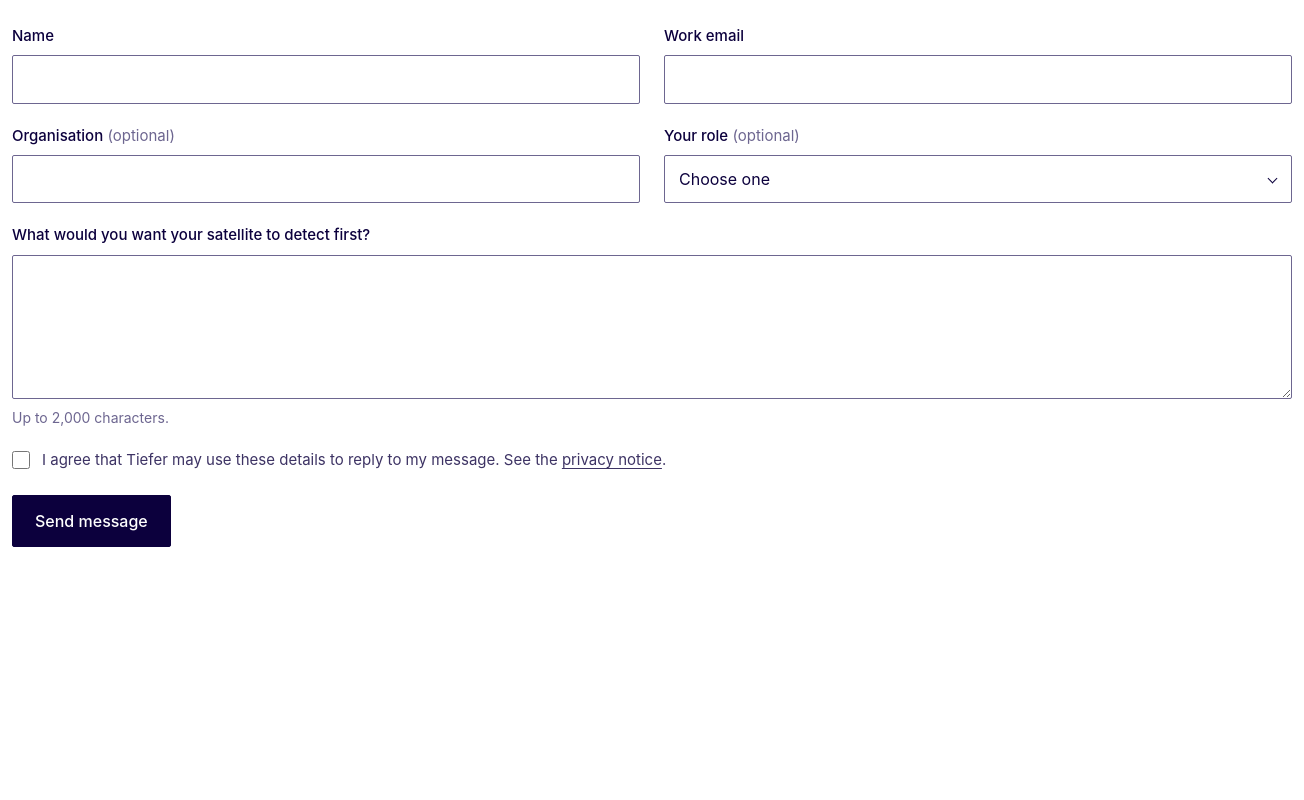
Scenario: sends the token, clears the form on success and thanks the sender
Type "Ada" into the field labelled "Name" at (326, 80), box [12, 55, 640, 104]
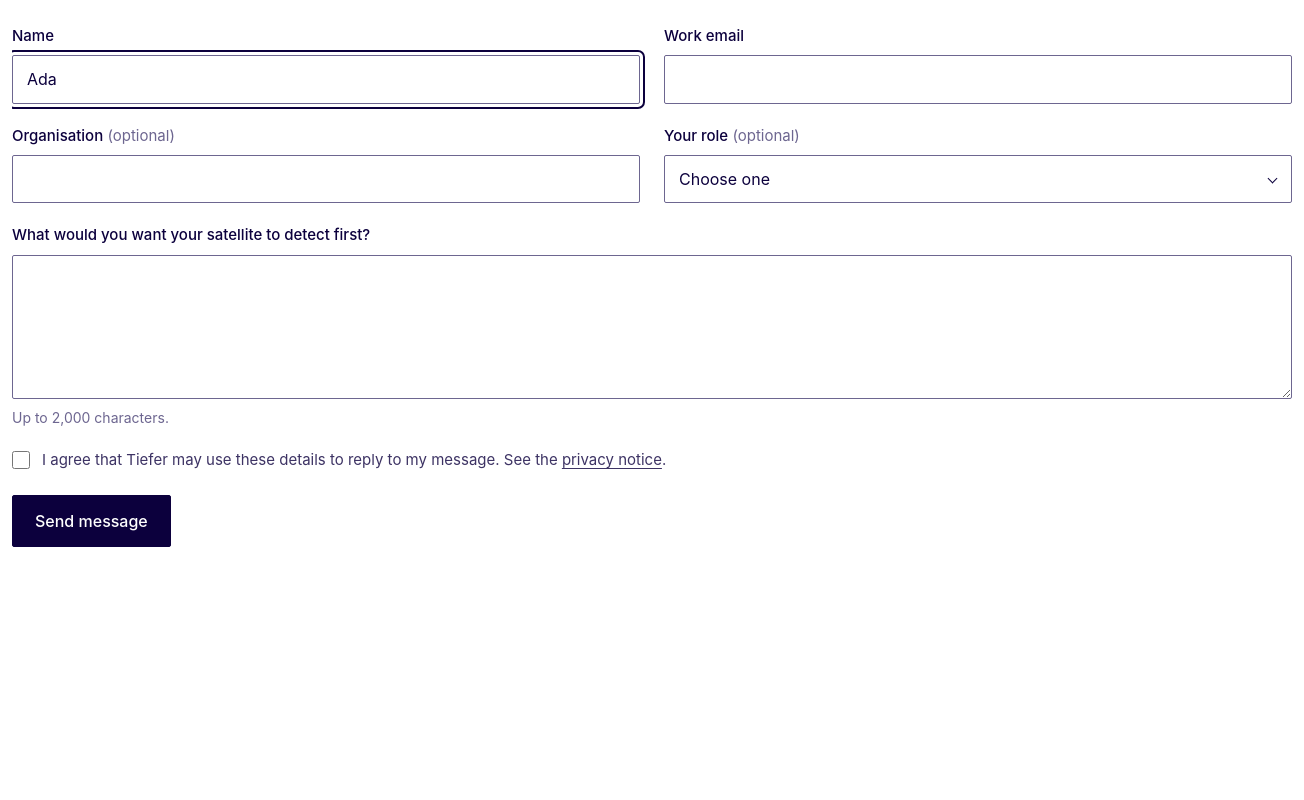
Type "ada@example.org" into the field labelled "Work email" at (978, 80), box [664, 55, 1292, 104]
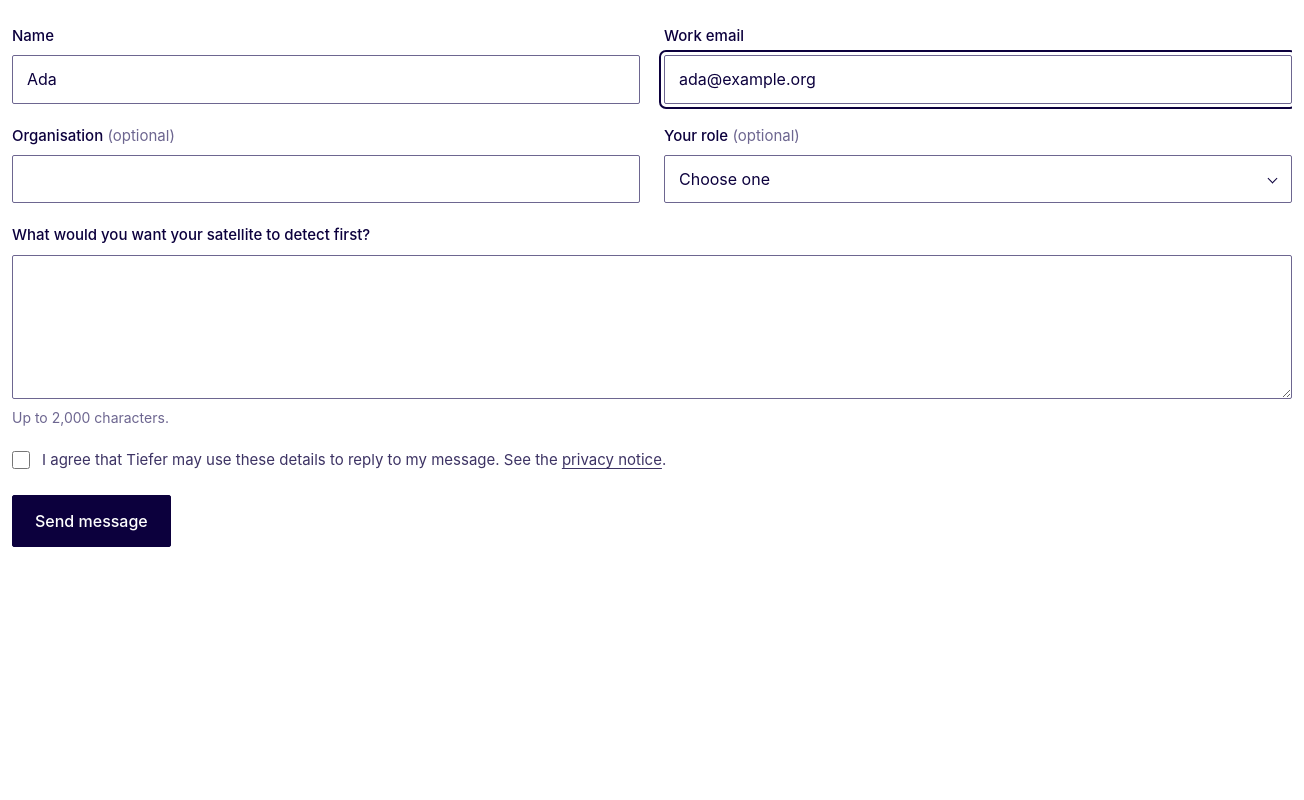
Type "Fires" into the text box labelled "What would you want your satellite to detect first?" at (652, 326), box [12, 254, 1292, 398]
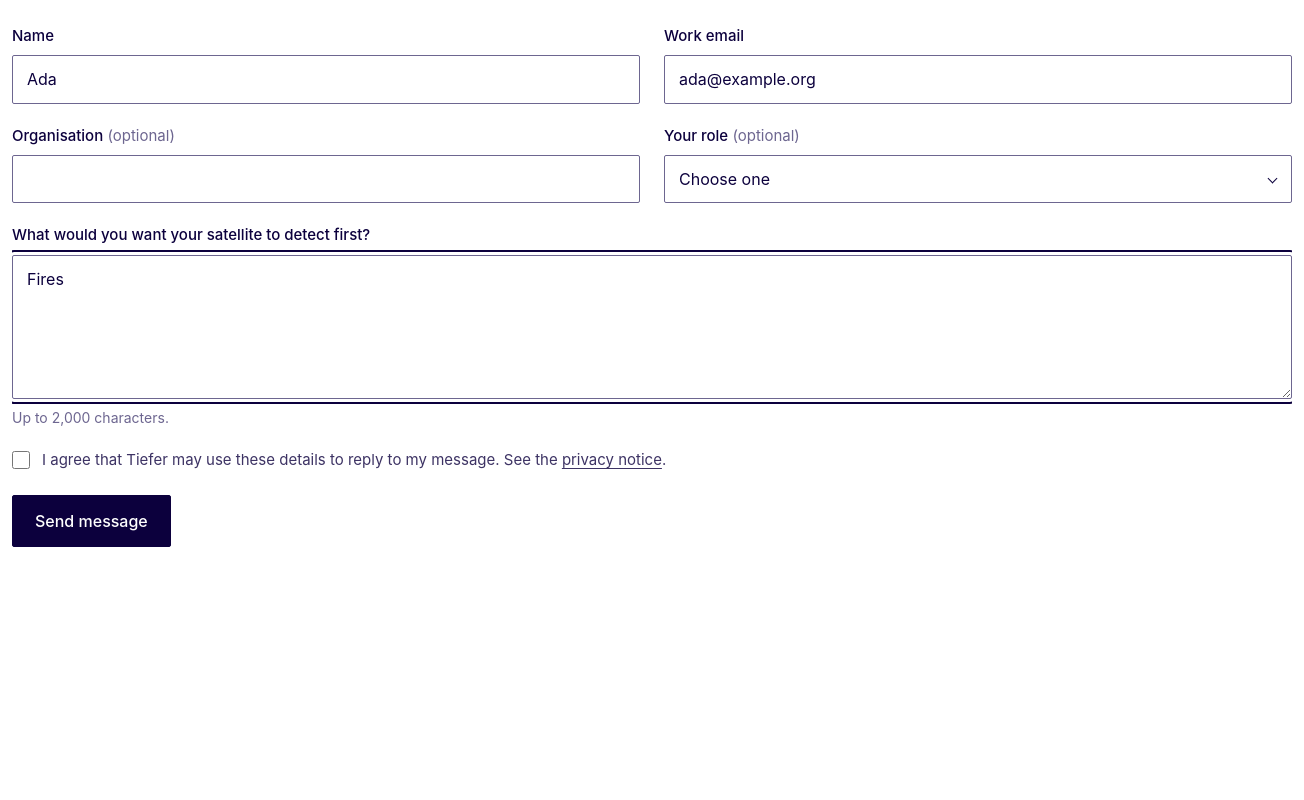
Click the checkbox at (21, 460), box [12, 451, 30, 469]
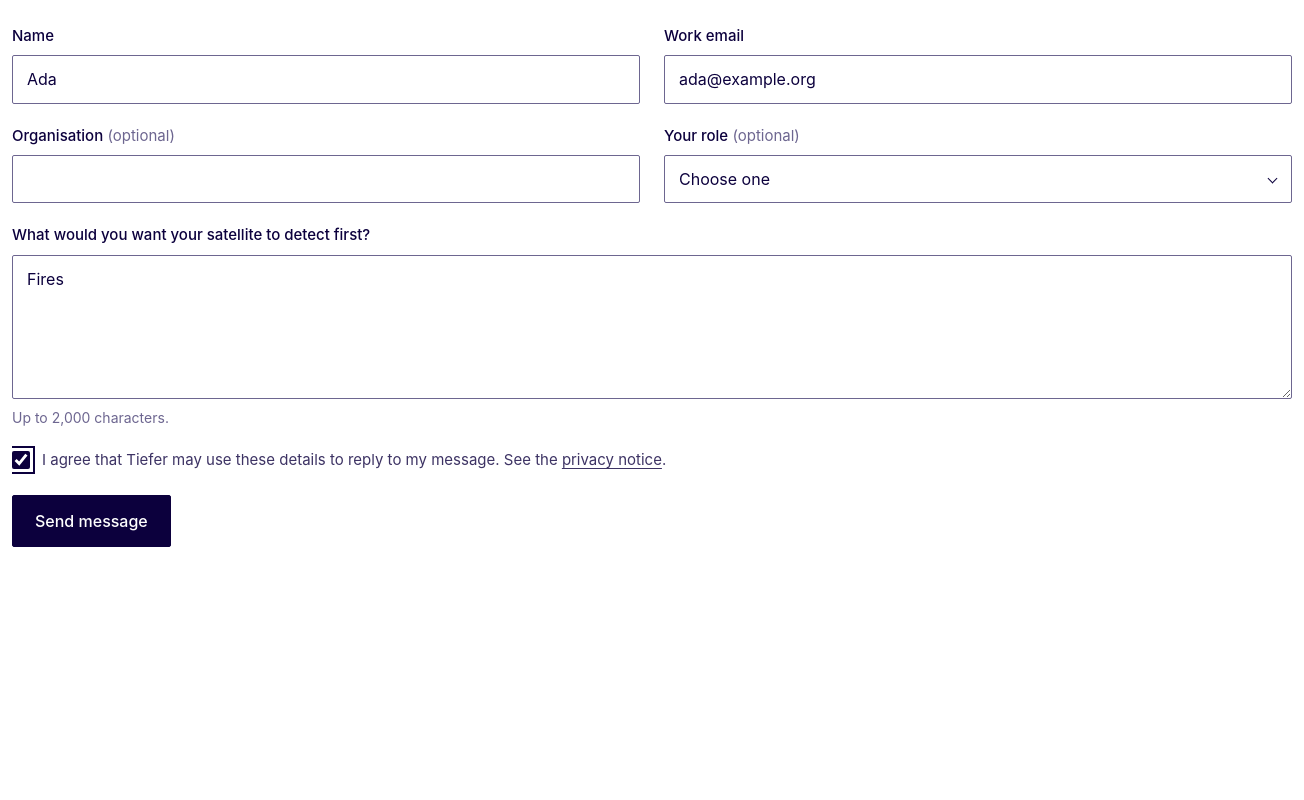
Click the button "Send message" at (91, 522), box [12, 496, 171, 548]
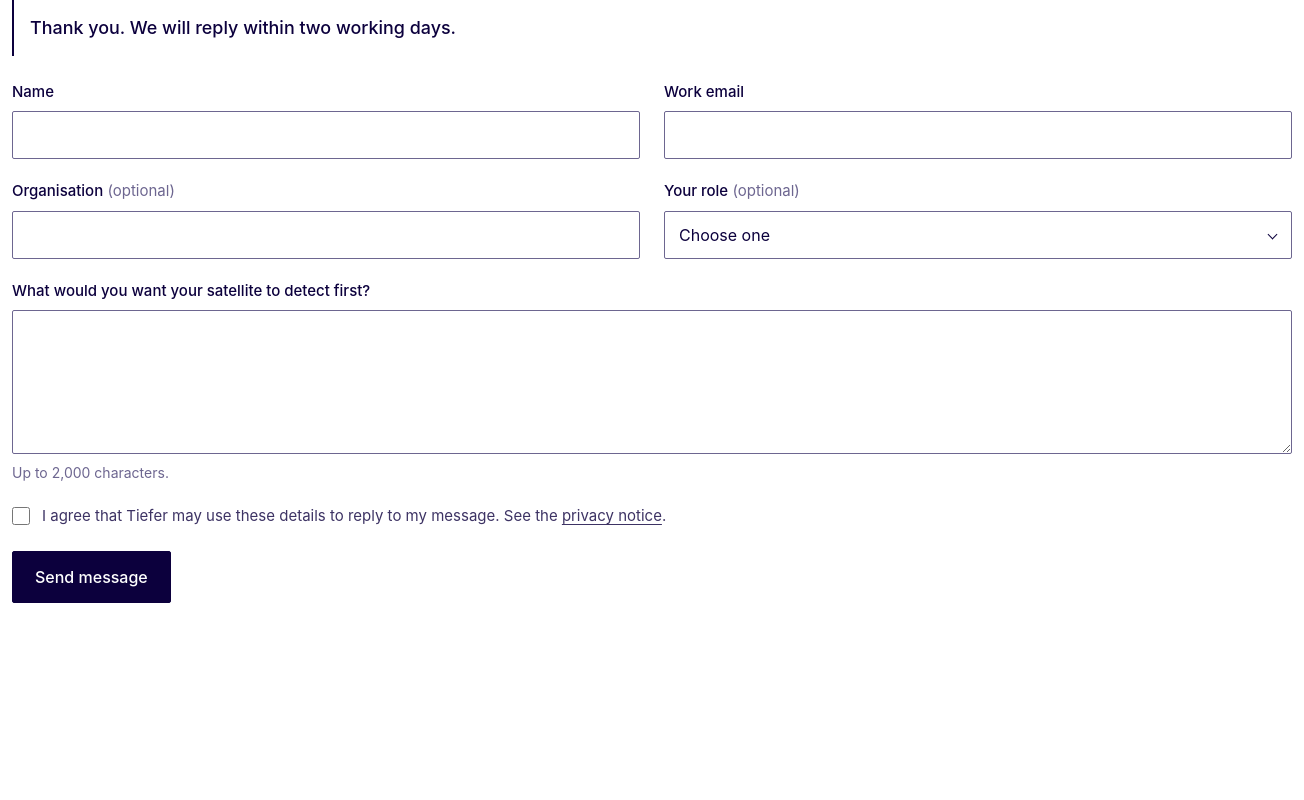
Expected: the text "Thank you. We will reply within two working days." is shown, [12, 0, 1292, 56]
Expected: the field labelled "Name" is empty, [12, 111, 640, 159]
